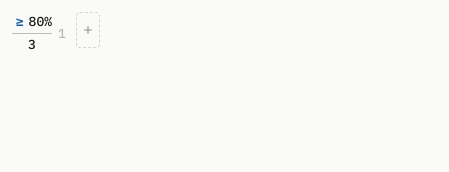
it: Alt+click cycles the unit › refuses to shed a soft-load sign, and writes nothing
Press the mouse on the button "≥" at (20, 22), box [12,12,28,32]
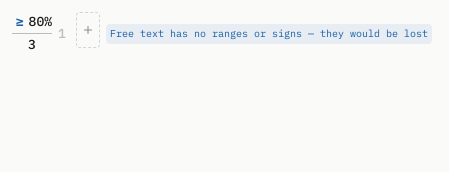
Check: the text "Free text has no ranges or signs — they would be lost" is shown, box [106,24,432,44]
